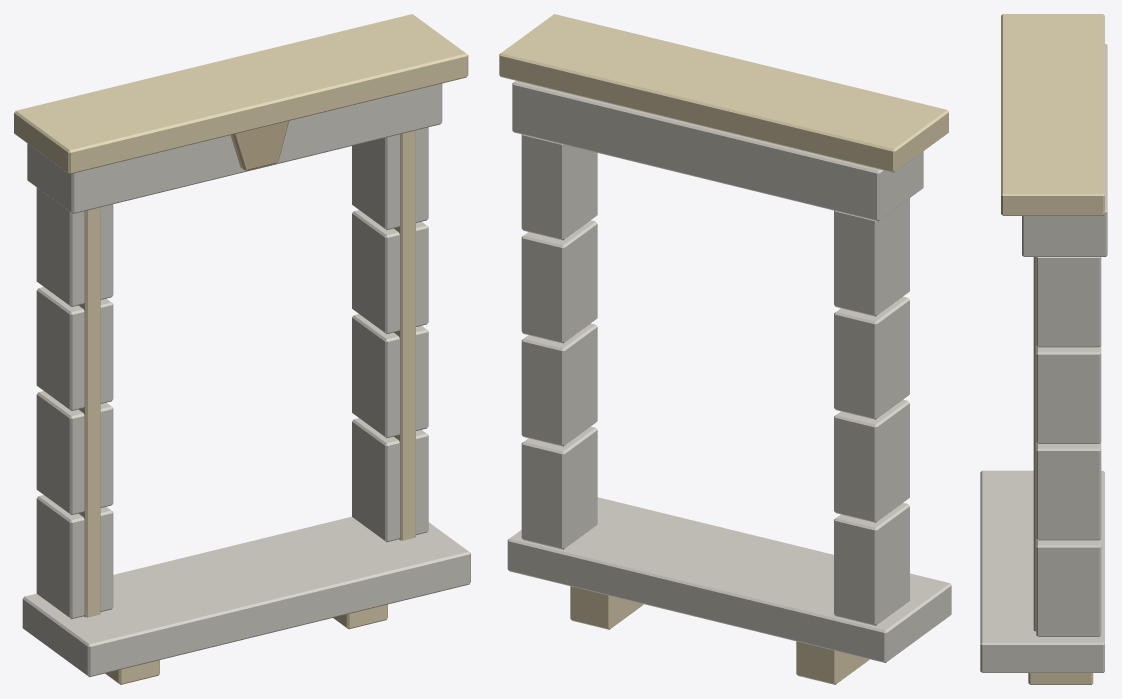
Rendered from b12_limestone_window_surround.glb.
3 renders of one model, left to right at view 1: azimuth 30°, elevation 25°; view 2: azimuth 150°, elevation 25°; view 3: azimuth 270°, elevation 25°, orthographic. The views are drawn at different scales.
Parts seen in each view (by area): view 1: b12_limestone_window_surround; view 2: b12_limestone_window_surround; view 3: b12_limestone_window_surround.
Boxes of the visible parts, x1,y1,x2,y2 form: b12_limestone_window_surround: (14,14,470,684); b12_limestone_window_surround: (499,14,951,684); b12_limestone_window_surround: (980,14,1107,684).
Size of the model in its own units: 1.65 by 2.21 by 0.49.
